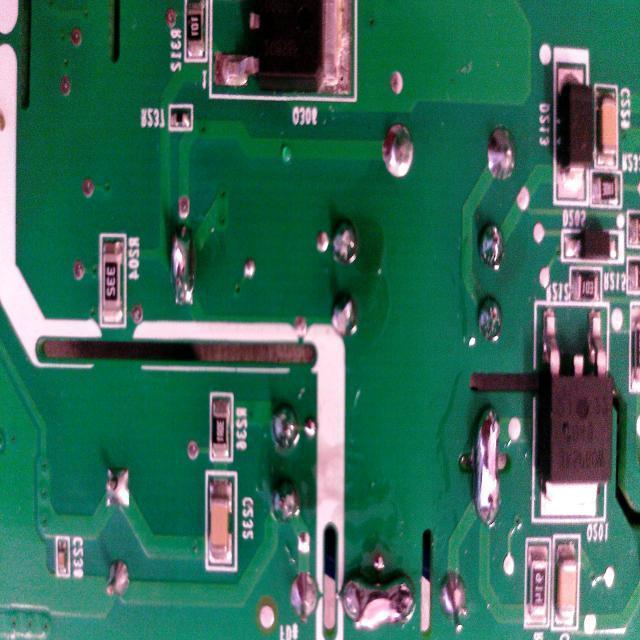Soldering bridge: (338, 564, 418, 632), (468, 401, 504, 532), (167, 215, 197, 312)
